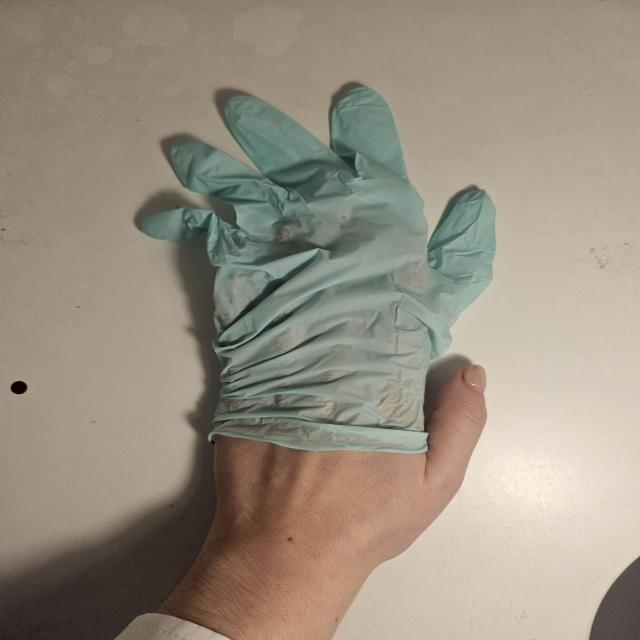glove_partial: (137, 86, 497, 568)
